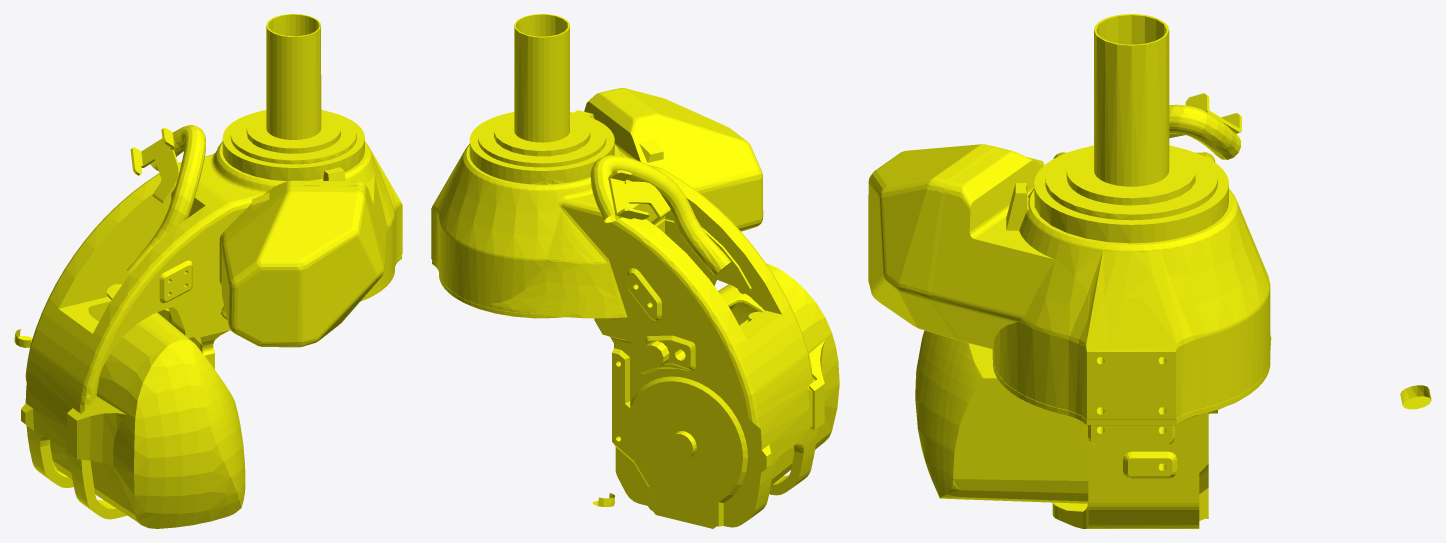
3 views of the same model, side by side, from view 1: azimuth 30°, elevation 25°; view 2: azimuth 150°, elevation 25°; view 3: azimuth 270°, elevation 25° (orthographic). The views are drawn at different scales.
Visible parts, largest first — view 1: node; view 2: node; view 3: node.
Boxes of the visible parts, bbox=[...] form: node: bbox=[14, 14, 402, 528]; node: bbox=[431, 14, 839, 528]; node: bbox=[868, 14, 1431, 528].
Size of the model in its own units: 435 by 521 by 456.
